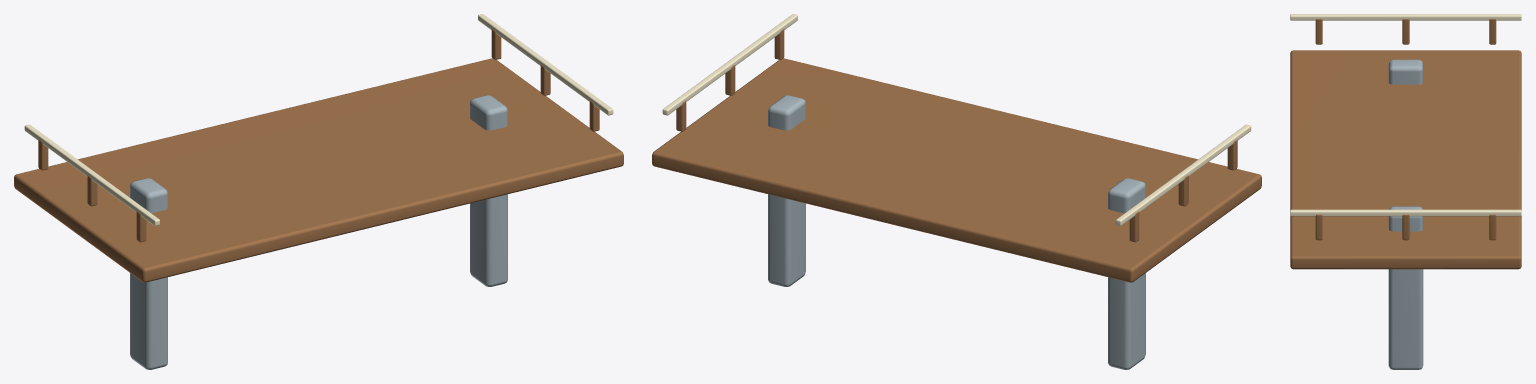
Rendered from prop-bridge.glb.
3 renders of one model, left to right at view 1: azimuth 30°, elevation 25°; view 2: azimuth 150°, elevation 25°; view 3: azimuth 270°, elevation 25°, orthographic. The views are drawn at different scales.
Visible parts, largest first — view 1: Deck, Pier, Pier.001, Rail, Rail.001; view 2: Deck, Pier, Pier.001, Rail, Rail.001; view 3: Deck, Pier.001, Rail.001, Rail, Pier, Post.005, Post.004, Post.006, Post.002, Post.001, Post.003.
Boxes of the visible parts, x1,y1,x2,y2 form: Deck: [14, 58, 623, 282]; Pier: [130, 178, 167, 369]; Pier.001: [470, 95, 507, 286]; Rail: [24, 124, 159, 225]; Rail.001: [478, 14, 613, 115]; Deck: [652, 58, 1261, 282]; Pier: [1108, 178, 1145, 369]; Pier.001: [768, 95, 805, 286]; Rail: [1116, 124, 1251, 225]; Rail.001: [662, 14, 797, 115]; Deck: [1290, 50, 1521, 269]; Pier.001: [1388, 206, 1423, 369]; Rail.001: [1290, 209, 1521, 216]; Rail: [1290, 14, 1521, 20]; Pier: [1388, 59, 1423, 84]; Post.005: [1402, 214, 1409, 240]; Post.004: [1315, 214, 1322, 240]; Post.006: [1489, 214, 1496, 240]; Post.002: [1402, 19, 1409, 44]; Post.001: [1315, 19, 1322, 44]; Post.003: [1489, 19, 1496, 44].
Bounding box in the file's own units: 17 × 6.9 × 8.
